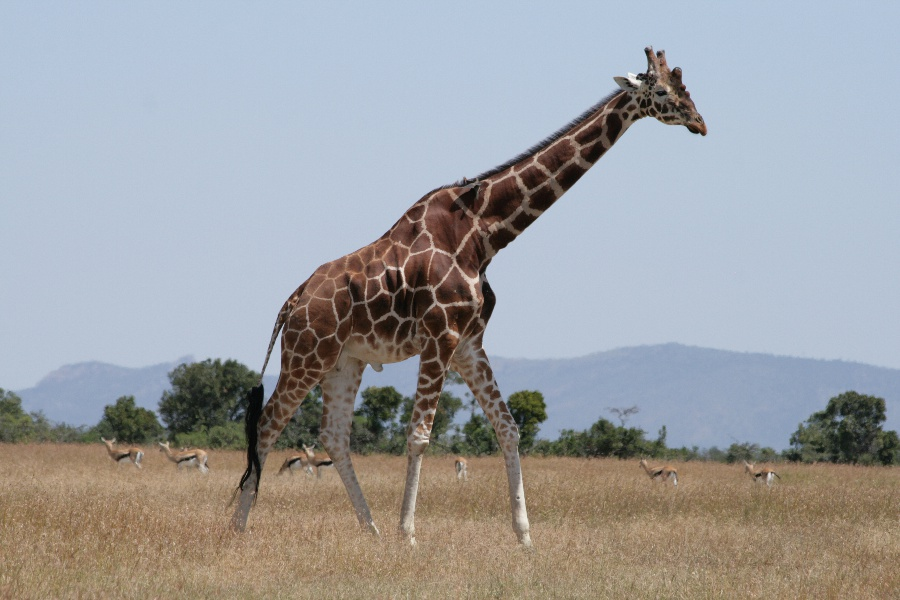giraffe: (214, 36, 710, 540)
